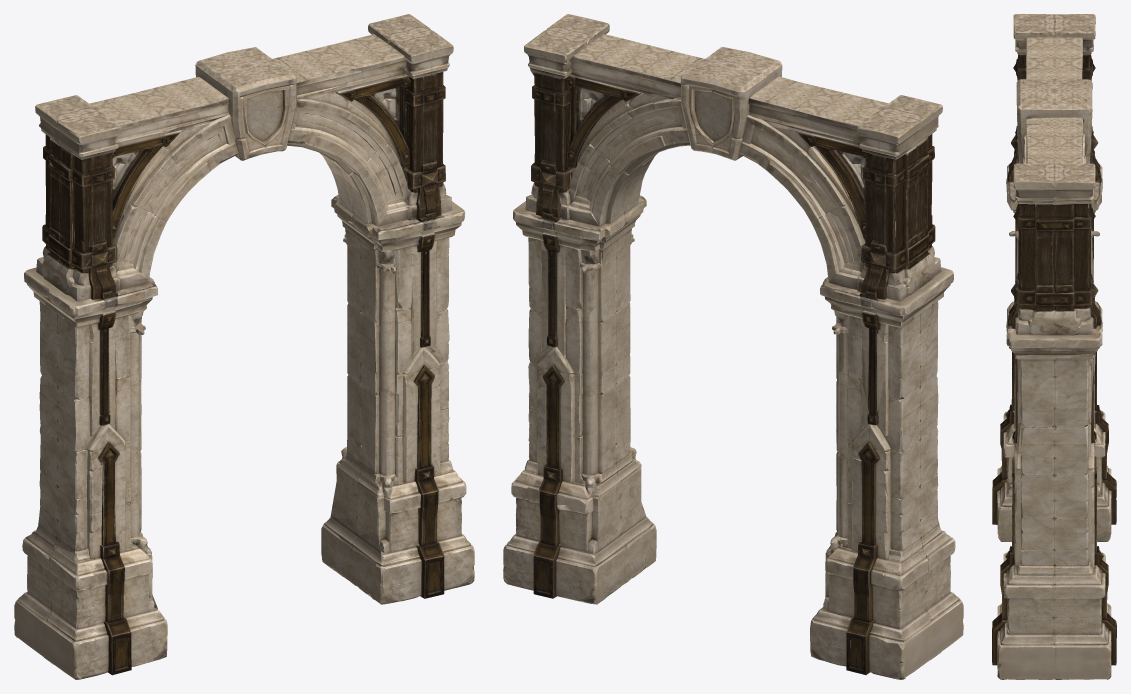
The picture shows the model from 3 angles, left to right: view 1: azimuth 30°, elevation 25°; view 2: azimuth 150°, elevation 25°; view 3: azimuth 270°, elevation 25°; orthographic projection. The views are drawn at different scales.
Visible parts, largest first — view 1: Mesh_0; view 2: Mesh_0; view 3: Mesh_0.
Part boxes in pixels (box(x1,y1,x2,y2)): Mesh_0: box(14, 14, 474, 679); Mesh_0: box(503, 14, 963, 679); Mesh_0: box(992, 14, 1116, 679).
Bounding box in the file's own units: 1.47 × 1.9 × 0.4297.
1 material, 1 textured.
